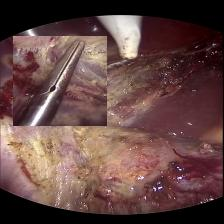Grasper: (14, 35, 107, 125)
Hook: (95, 16, 151, 73)
